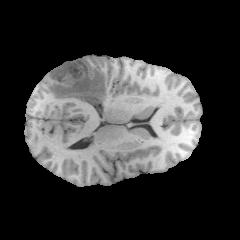glioma: (47, 59, 107, 106)
